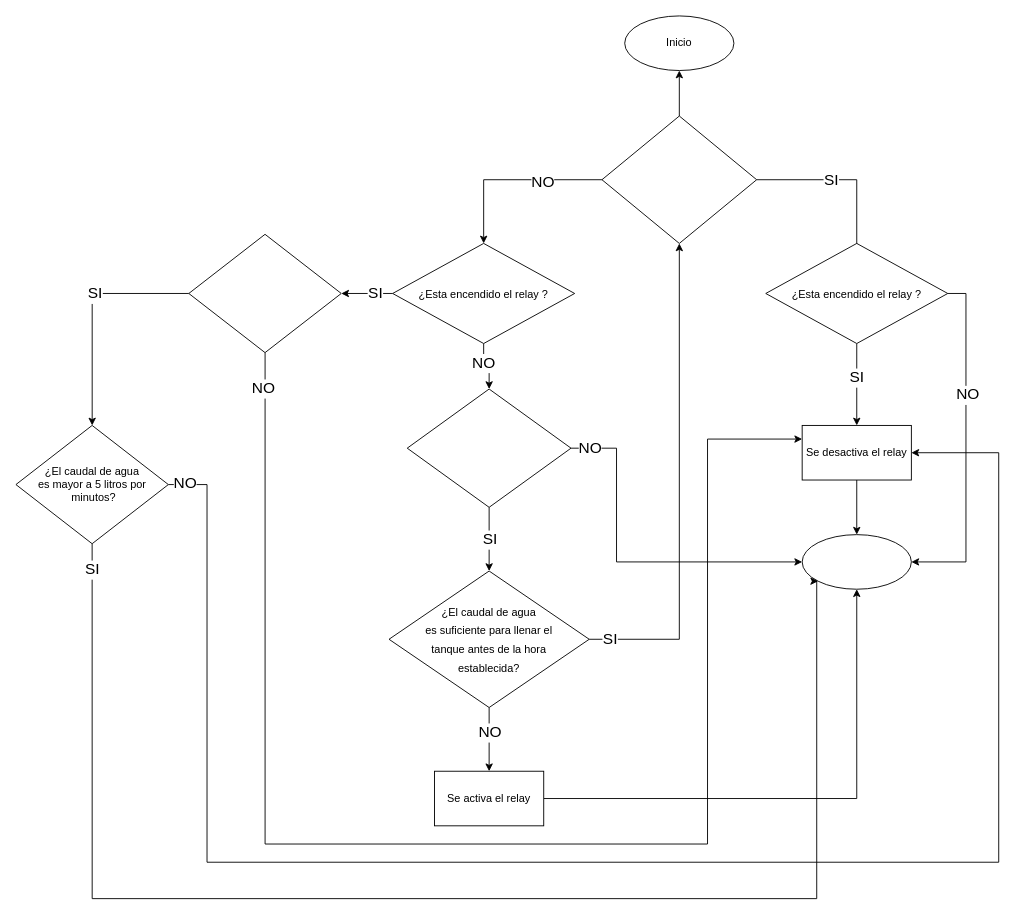
This 1022x922 diagram has some shape labels left out. The shapes that lost their labels are listed below. From the top down, each one's centre as x and y in pixels, then its label:
At pixel 679 179: "¿El nivel tanque esta al 100%?".
At pixel 264 293: "¿Hay agua en la tubería que viene de la calle?".
At pixel 488 447: "¿Validación automática activa ?".
At pixel 856 561: "FIN".
